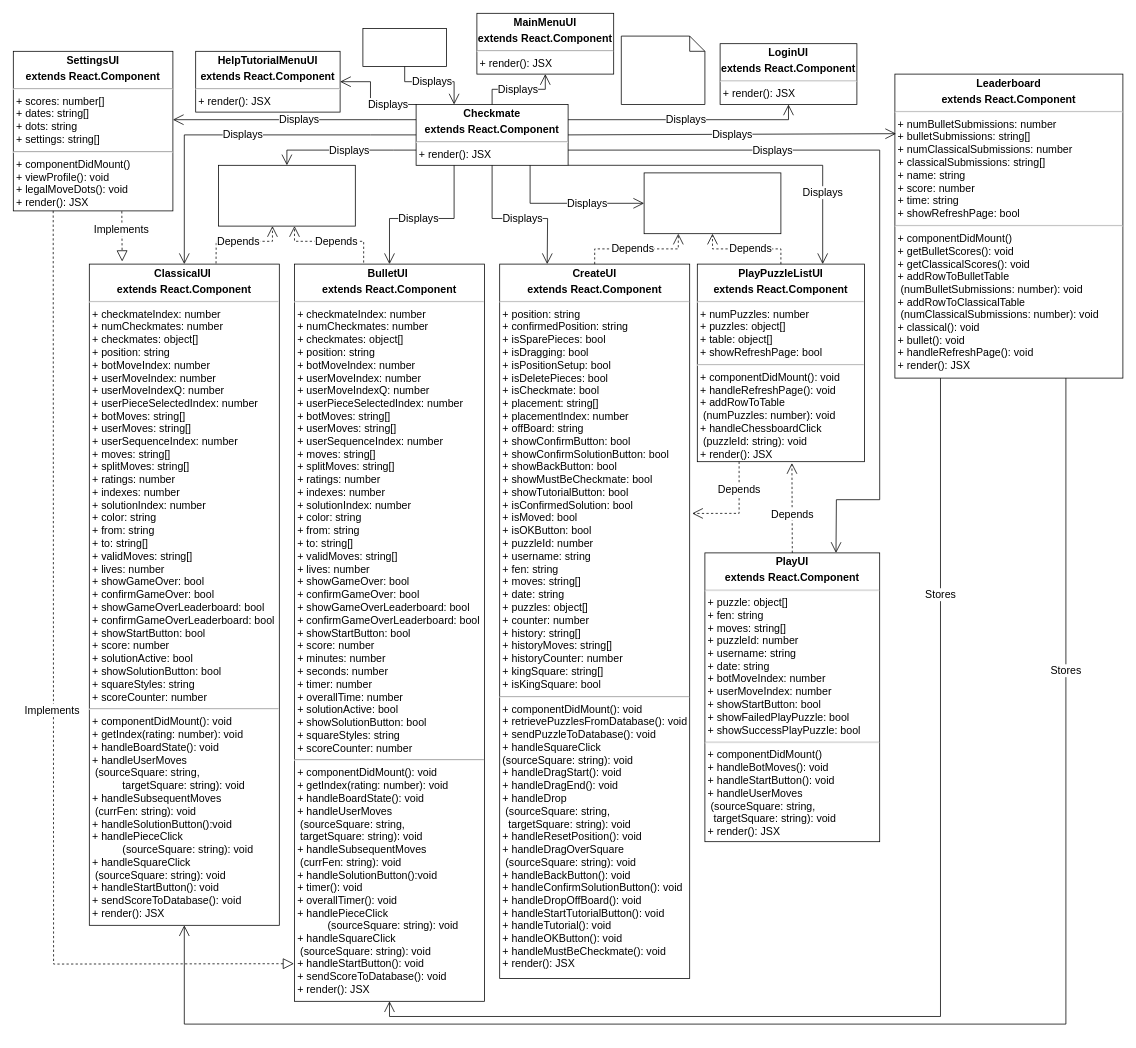
Image size: 1136x1048. Some labels were removed from this diagram. The shapes that lost their labels are listed below. From the top down, each one's centre as x and y in pixels, then its label:
the point at 404,47: index
the point at 663,69: NOTE: JSX allows us to write HTML in React
the point at 286,195: GameModeUI extends React.Component + render(): JSX
the point at 712,203: CustomPuzzleUI extends React.Component + render(): JSX
